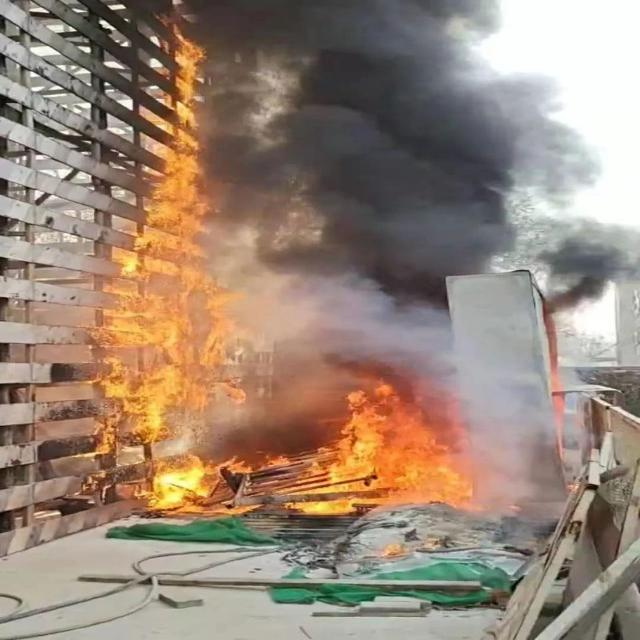Fire: (98, 6, 193, 452), (326, 387, 476, 512), (146, 468, 213, 512)
Smoke: (198, 0, 631, 273), (202, 271, 458, 384), (477, 373, 588, 511)
